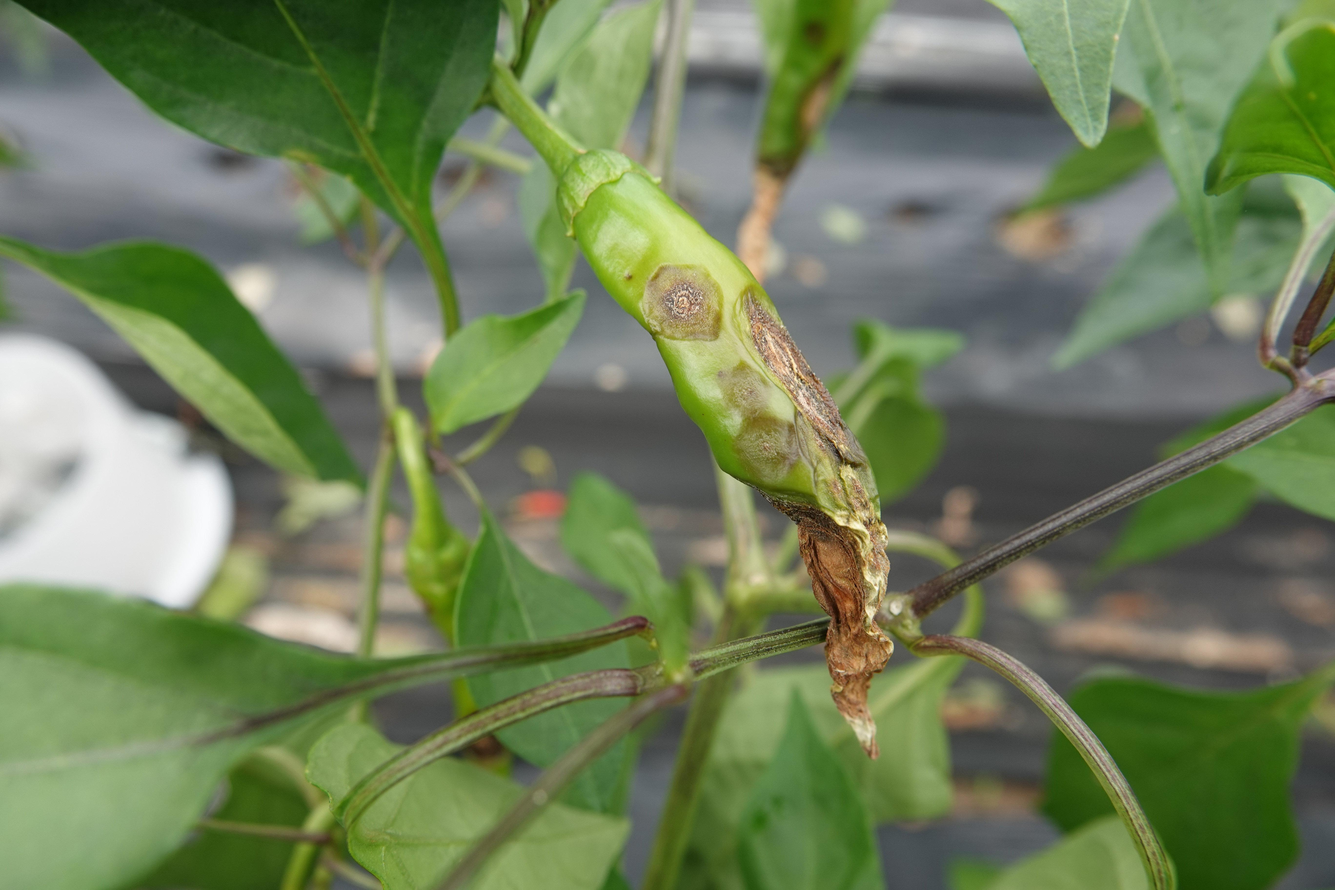Busuk Buah Antraknosa: (538, 149, 898, 759)
